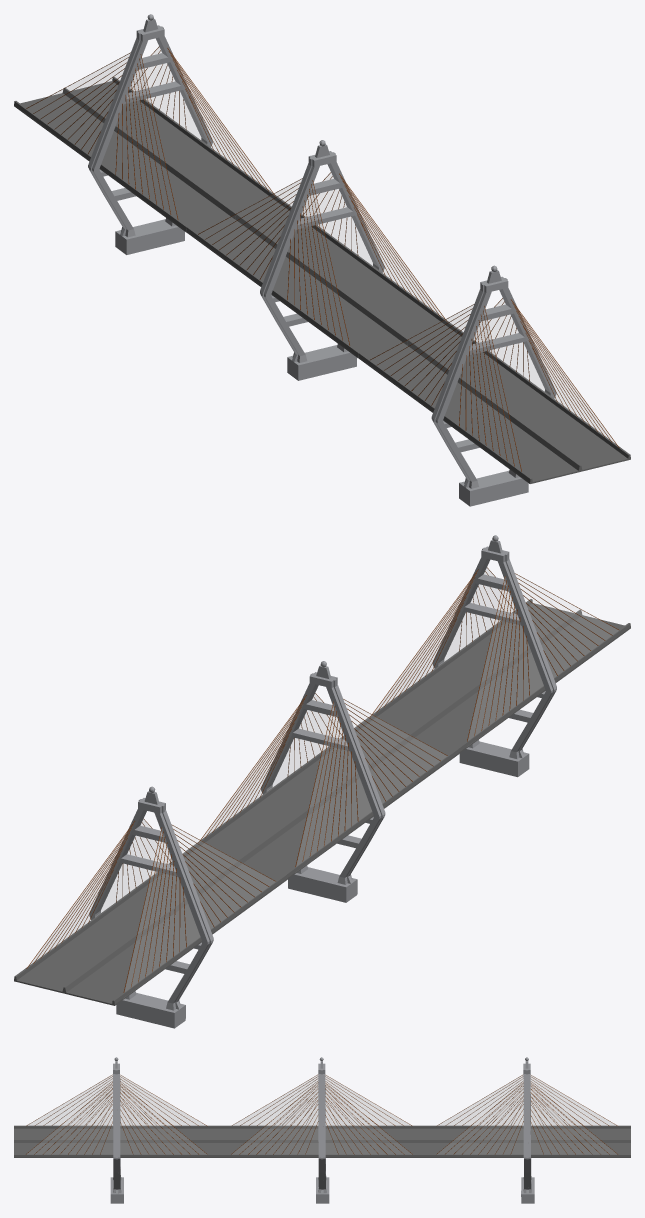
File: bridge.0d30313c.fbx
The picture shows the model from 3 angles, top to bottom: view 1: azimuth 30°, elevation 25°; view 2: azimuth 150°, elevation 25°; view 3: azimuth 270°, elevation 25°; orthographic projection. The views are drawn at different scales.
Visible parts, largest first — view 1: Road_002, Road_001, Road_000, Line_001, Line_000, Line_002, Support_000, Support_002, Support_001; view 2: Road_001, Road_000, Road_002, Line_001, Line_000, Line_002, Support_002, Support_000, Support_001; view 3: Line_001, Line_000, Line_002, Road_002, Road_000, Road_001, Support_001, Support_000, Support_002.
Part boxes in pixels (x1,y1,x2,y2): Road_002: (358,329,630,483); Road_001: (14,77,286,232); Road_000: (186,203,458,358); Line_001: (26,46,275,219); Line_000: (198,172,447,345); Line_002: (370,298,619,471); Support_000: (260,140,384,380); Support_002: (431,265,556,506); Support_001: (88,14,212,254); Road_001: (14,850,287,1005); Road_000: (186,724,459,878); Road_002: (358,599,630,753); Line_001: (26,819,275,992); Line_000: (198,693,447,866); Line_002: (370,567,619,741); Support_002: (432,535,556,777); Support_000: (261,661,385,902); Support_001: (89,786,213,1028); Line_001: (436,1075,617,1154); Line_000: (231,1074,412,1154); Line_002: (26,1074,207,1154); Road_002: (14,1125,220,1157); Road_000: (219,1125,425,1157); Road_001: (424,1125,630,1157); Support_001: (521,1057,534,1203); Support_000: (316,1057,329,1203); Support_002: (110,1057,123,1203).
Bounding box in the file's own units: 4.89 × 8.87 × 36.07.
